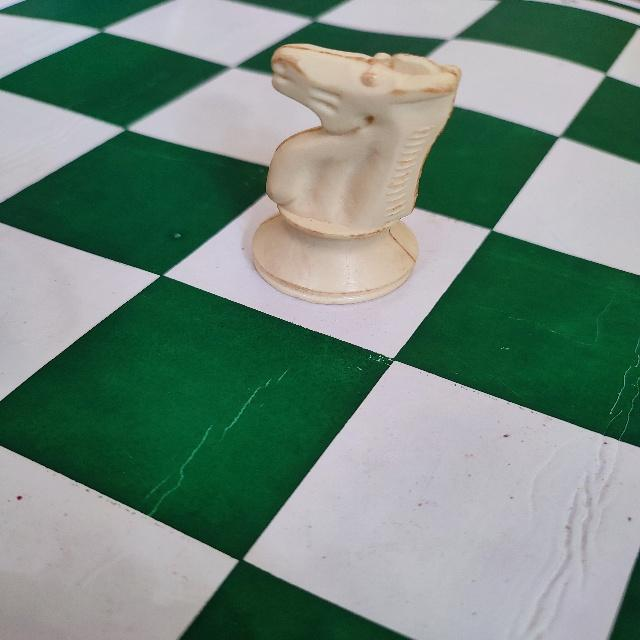Knight: (247, 38, 460, 308)
